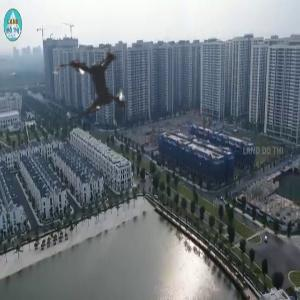drone: (25, 15, 175, 165)
